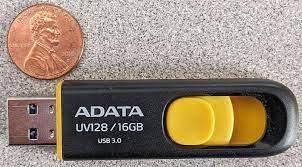USB Flash Drive: (8, 79, 296, 161)
